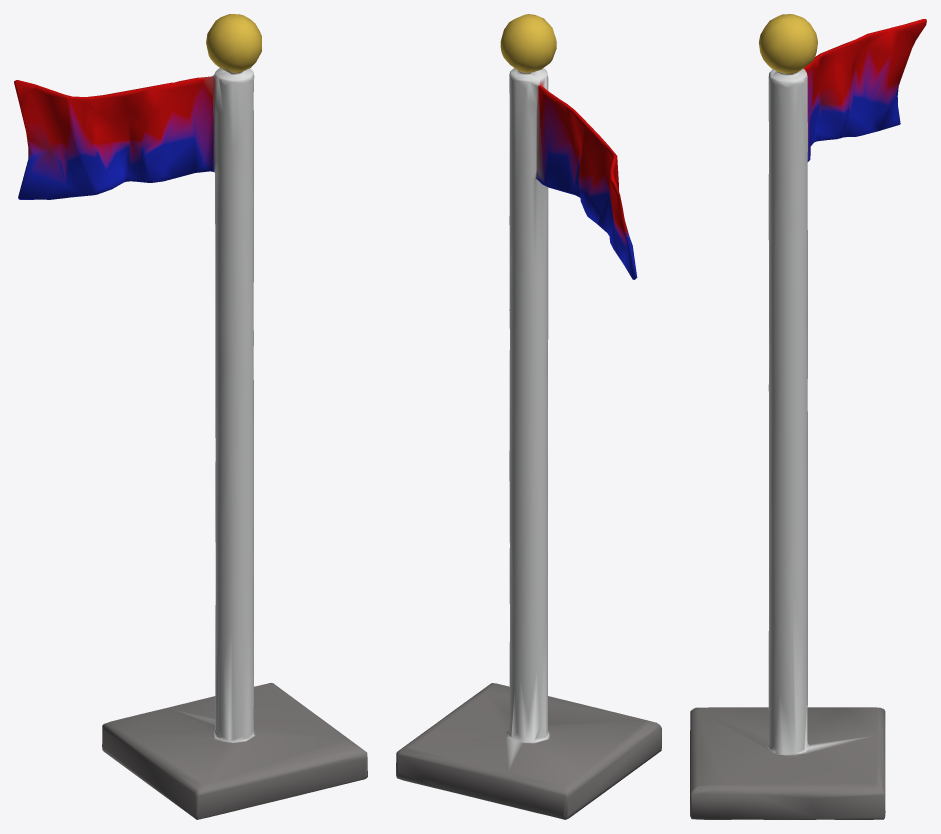
File: gen3d-flagpole-lod1.glb
3 renders of one model, left to right at view 1: azimuth 30°, elevation 25°; view 2: azimuth 150°, elevation 25°; view 3: azimuth 270°, elevation 25°, orthographic.
Parts seen in each view (by area): view 1: part_0; view 2: part_0; view 3: part_0.
Part boxes in pixels (left/top/right/bottom): part_0: left=14, top=14, right=367, bottom=819; part_0: left=396, top=14, right=661, bottom=819; part_0: left=690, top=14, right=926, bottom=819.
Size of the model in its own units: 0.3468 by 0.9991 by 0.2817.
